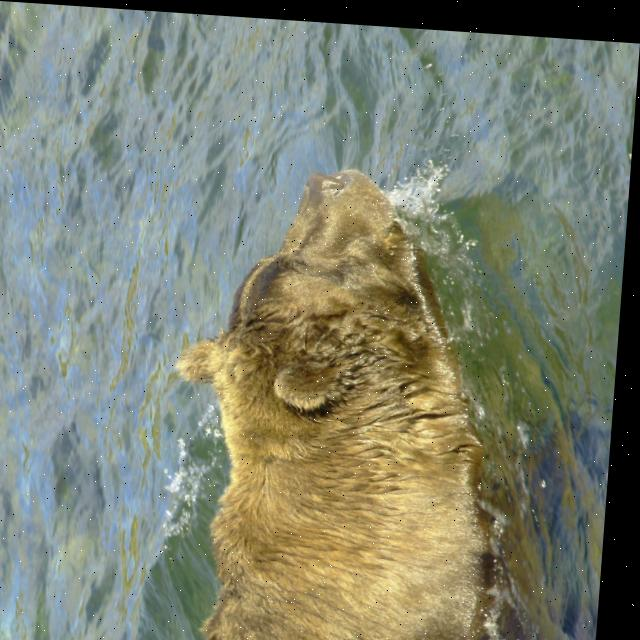bear face: (163, 150, 509, 640)
